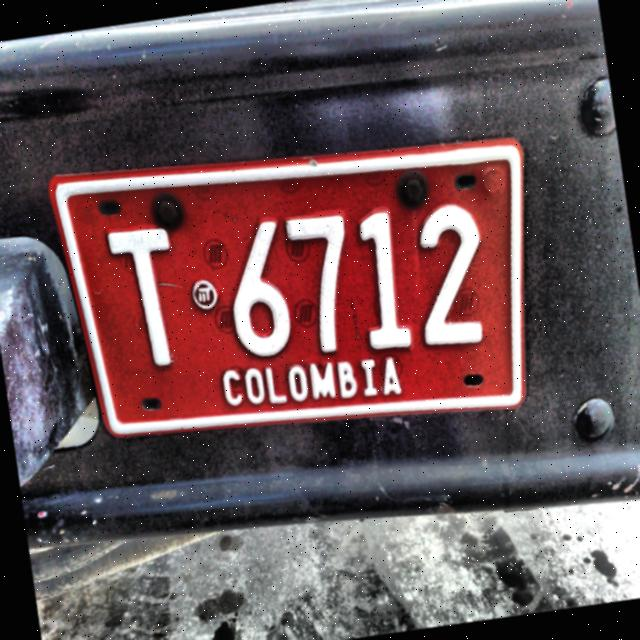plate: (54, 149, 524, 431)
